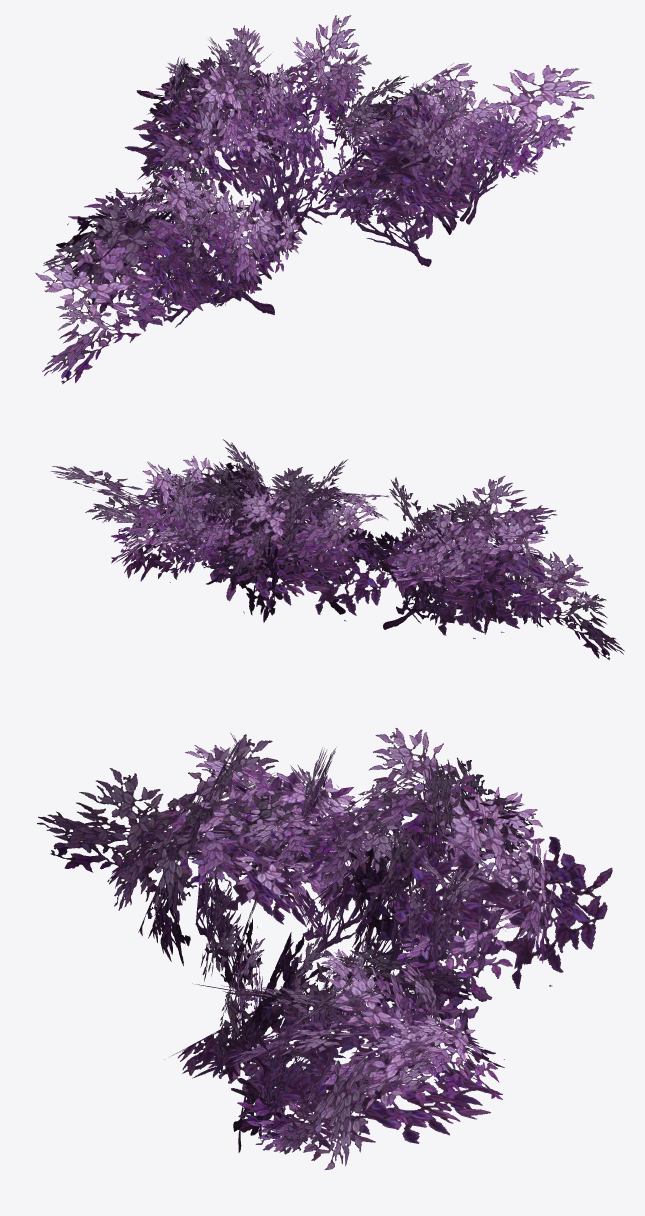
File: XSZY_tree5.fbx
3 views of the same model, one above another, from view 1: azimuth 30°, elevation 25°; view 2: azimuth 150°, elevation 25°; view 3: azimuth 270°, elevation 25° (orthographic). The views are drawn at different scales.
Visible parts, largest first — view 1: XSZY_tree5; view 2: XSZY_tree5; view 3: XSZY_tree5.
Boxes of the visible parts, bbox=[...] form: XSZY_tree5: bbox=[35, 15, 594, 384]; XSZY_tree5: bbox=[50, 439, 624, 660]; XSZY_tree5: bbox=[37, 728, 612, 1169].
Size of the model in its own units: 1.4 by 0.5717 by 0.7982.
